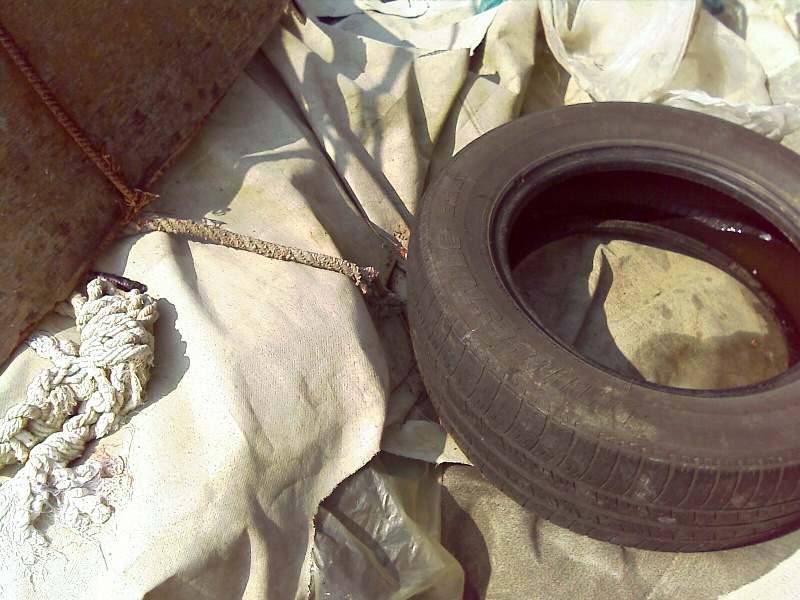plastic_bag: (177, 112, 409, 600), (291, 1, 800, 105)
tire: (411, 100, 800, 555)
